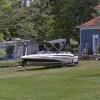Boat: (17, 40, 90, 74)
